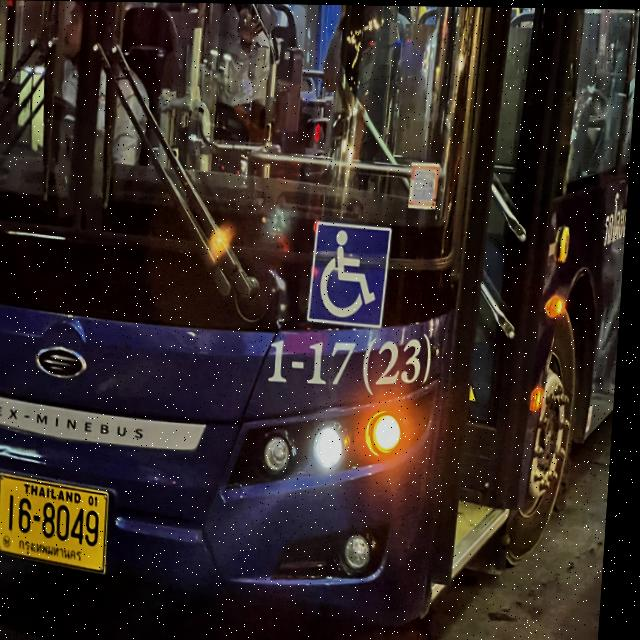TSB-Bus: (0, 0, 640, 630)
